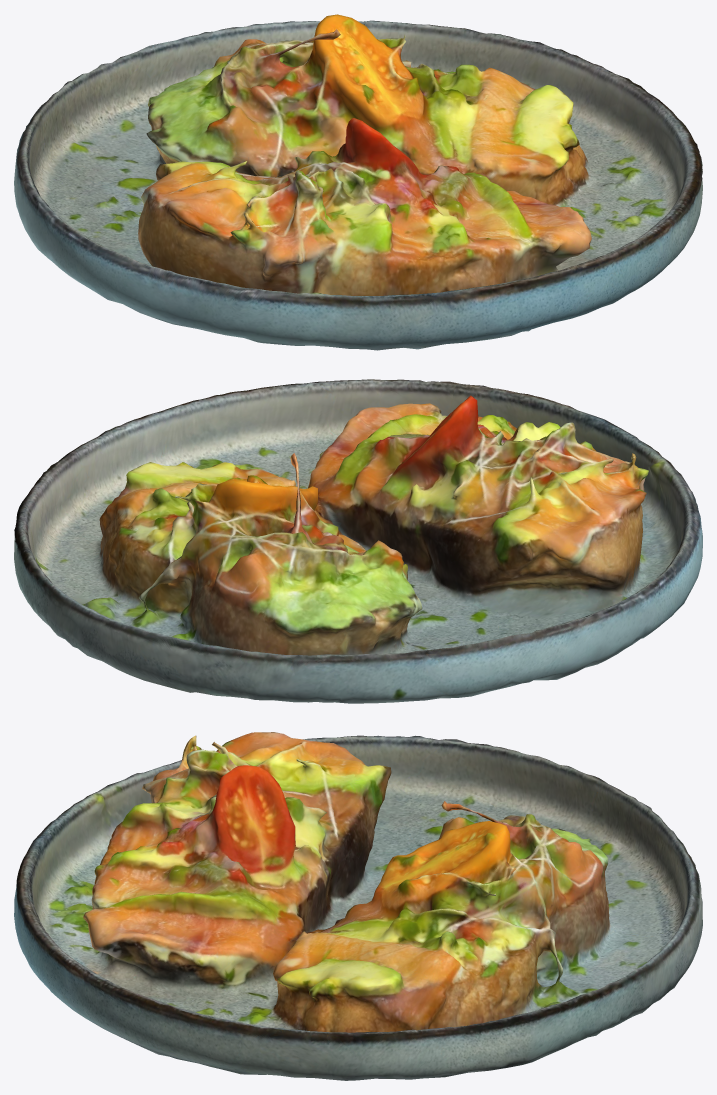
Rendered from tartine-avocat-saumon.glb.
The picture shows the model from 3 angles, top to bottom: view 1: azimuth 30°, elevation 25°; view 2: azimuth 150°, elevation 25°; view 3: azimuth 270°, elevation 25°; orthographic projection.
Visible parts, largest first — view 1: ObjectCapture; view 2: ObjectCapture; view 3: ObjectCapture.
Part boxes in pixels (left/top/right/bottom): ObjectCapture: left=14, top=14, right=702, bottom=350; ObjectCapture: left=14, top=379, right=702, bottom=703; ObjectCapture: left=14, top=732, right=702, bottom=1080.
Bounding box in the file's own units: 0.2077 × 0.056 × 0.2071.
Materials: 1 (1 with a texture image).
